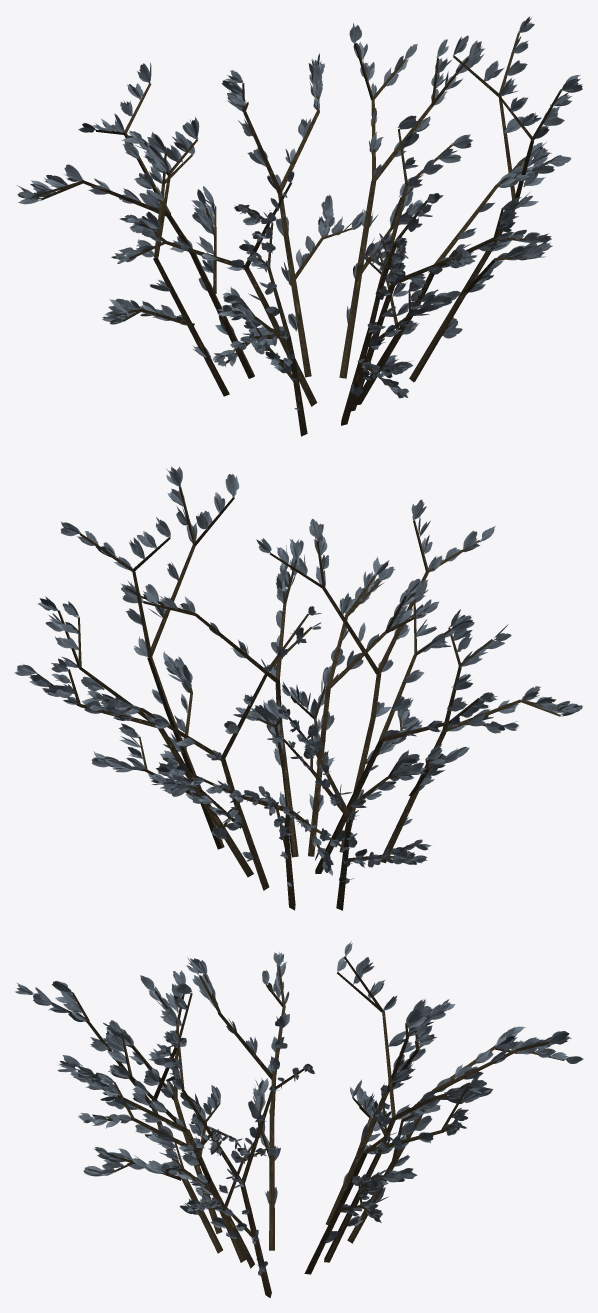
Rendered from sagebrush_grey_v02_LOD1.glb.
3 views of the same model, one above another, from view 1: azimuth 30°, elevation 25°; view 2: azimuth 150°, elevation 25°; view 3: azimuth 270°, elevation 25° (orthographic). The views are drawn at different scales.
Parts seen in each view (by area): view 1: sagebrush_grey_v02_LOD1; view 2: sagebrush_grey_v02_LOD1; view 3: sagebrush_grey_v02_LOD1.
Boxes of the visible parts, x1,y1,x2,y2 form: sagebrush_grey_v02_LOD1: [16, 16, 582, 436]; sagebrush_grey_v02_LOD1: [14, 466, 582, 910]; sagebrush_grey_v02_LOD1: [15, 941, 583, 1297].
Bounding box in the file's own units: 1.08 × 0.7707 × 1.28.
2 materials, 2 textured.
